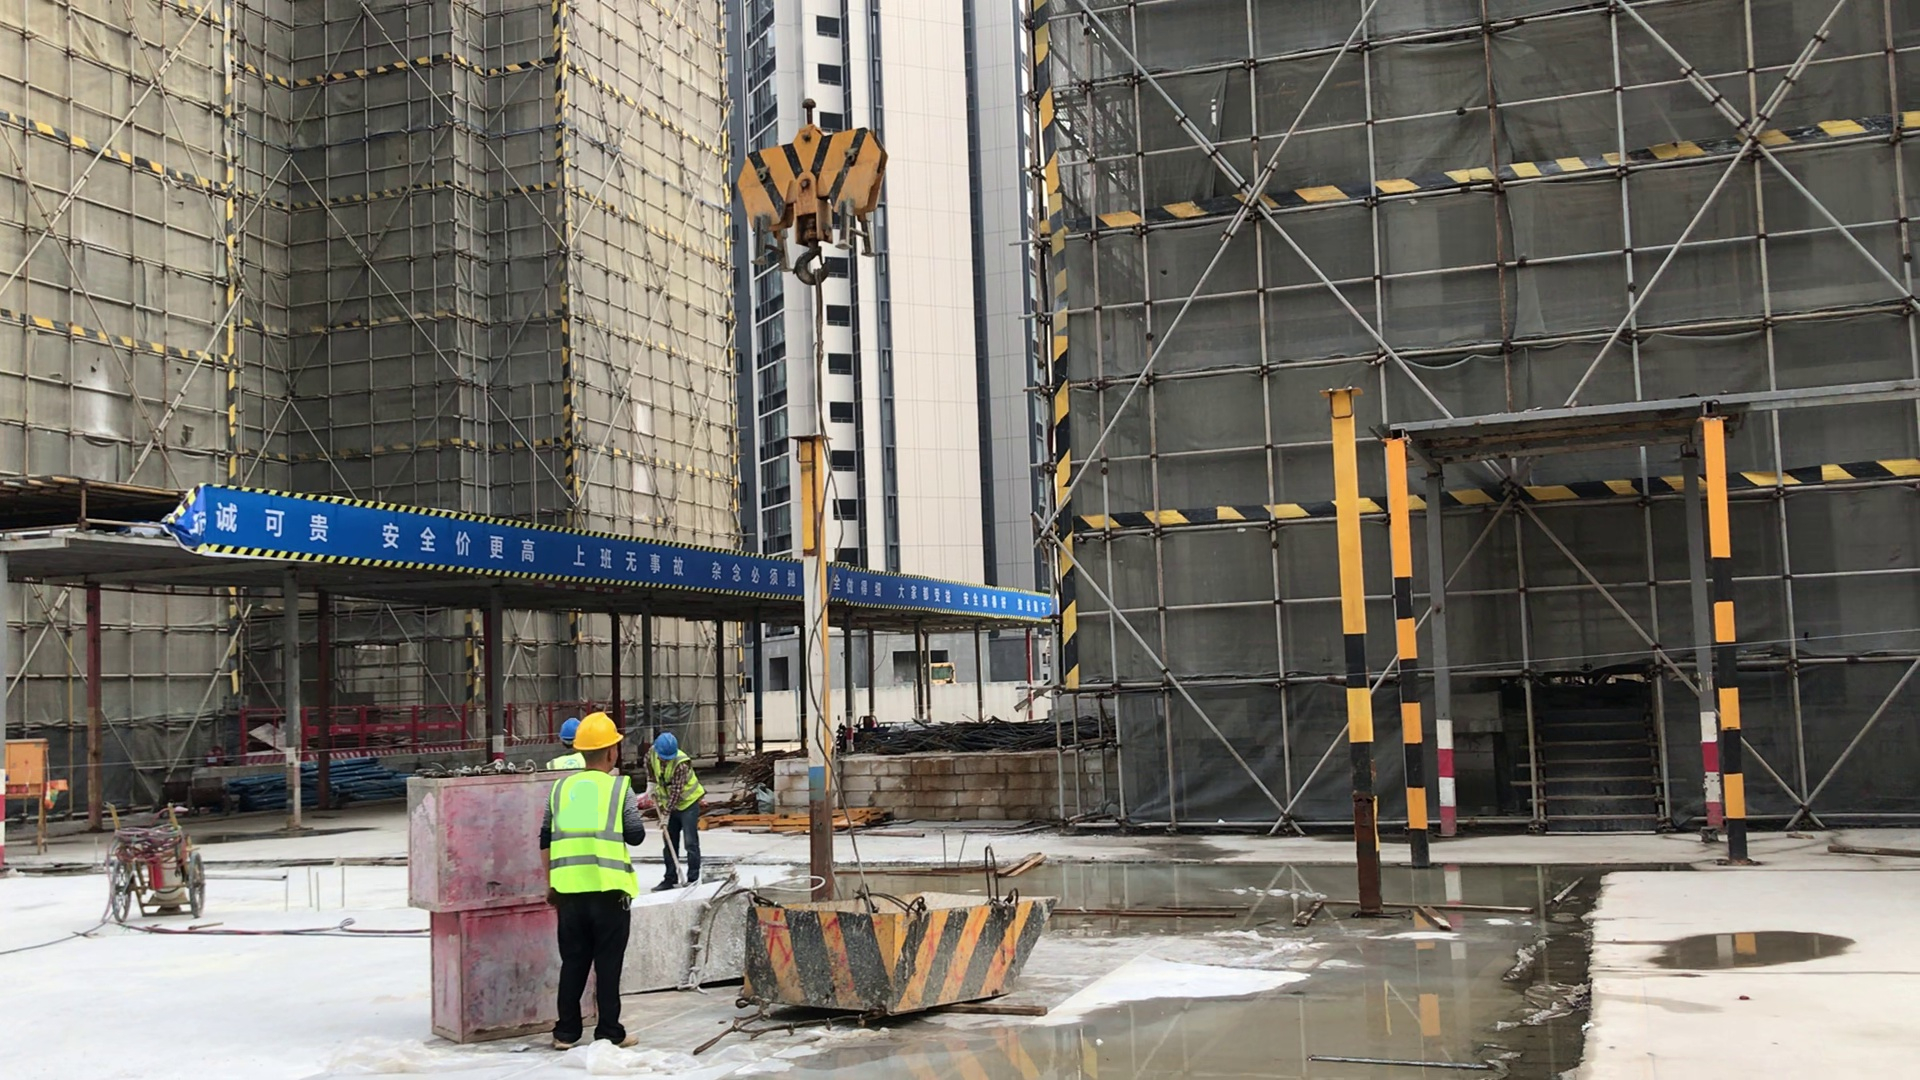ebox: (4, 736, 62, 804)
fence: (206, 685, 640, 760)
handcart: (97, 805, 206, 934)
helmet: (555, 702, 617, 748), (643, 713, 681, 757)
hook: (723, 89, 889, 290)
hopper: (730, 875, 1051, 1015)
person: (549, 702, 641, 1052), (641, 727, 700, 895)
slogan: (143, 443, 1069, 653)
vest: (534, 754, 644, 906), (654, 737, 695, 808)
